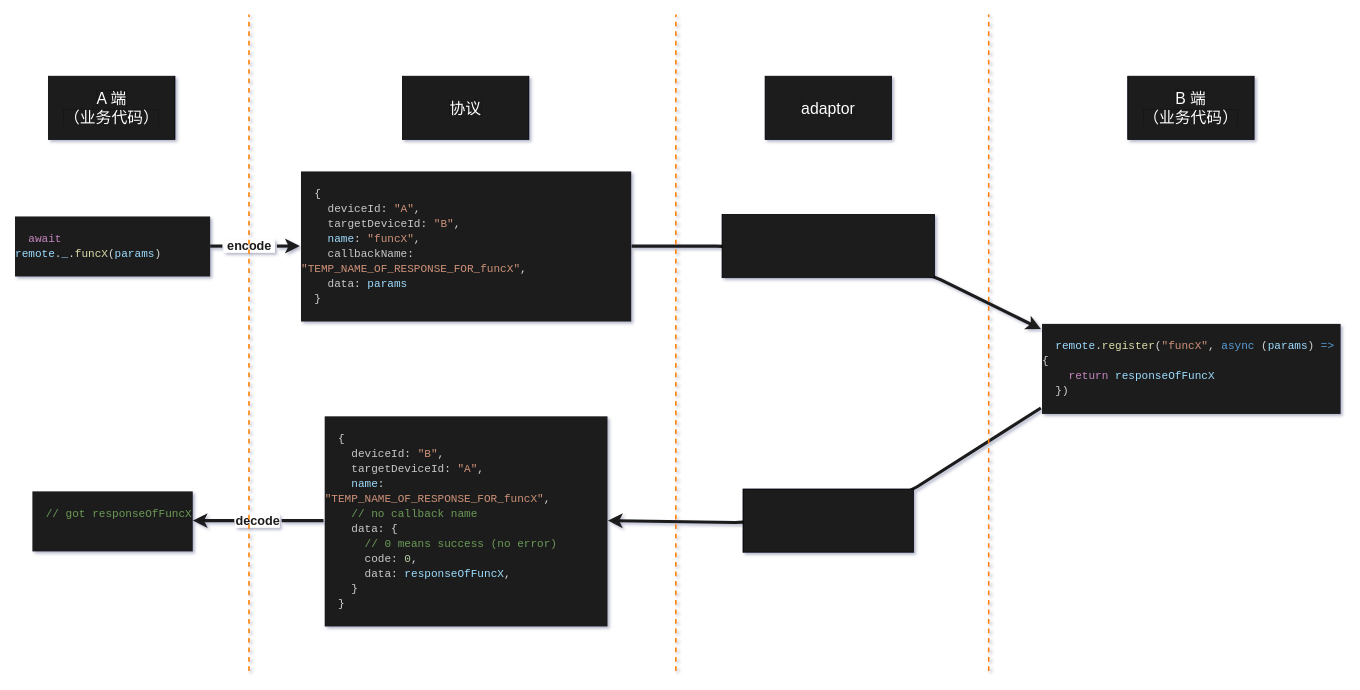
The diagram is 1360 pixels wide and 690 high, and some of its shapes have lost their labels. Each missing label, with the centre of its shape:
"根据 targetDeviceId 将数据发送给 B" goes at pixel 828 246.
"编码并回传给 A" goes at pixel 828 520.
